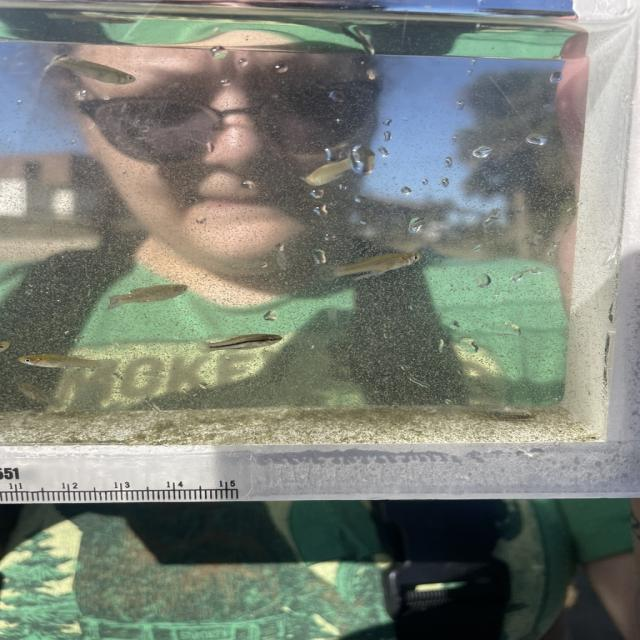Sivrisinek Baligi: (321, 244, 424, 284), (18, 345, 128, 380), (297, 140, 365, 192), (97, 274, 200, 308), (468, 394, 551, 426), (196, 328, 286, 357)
